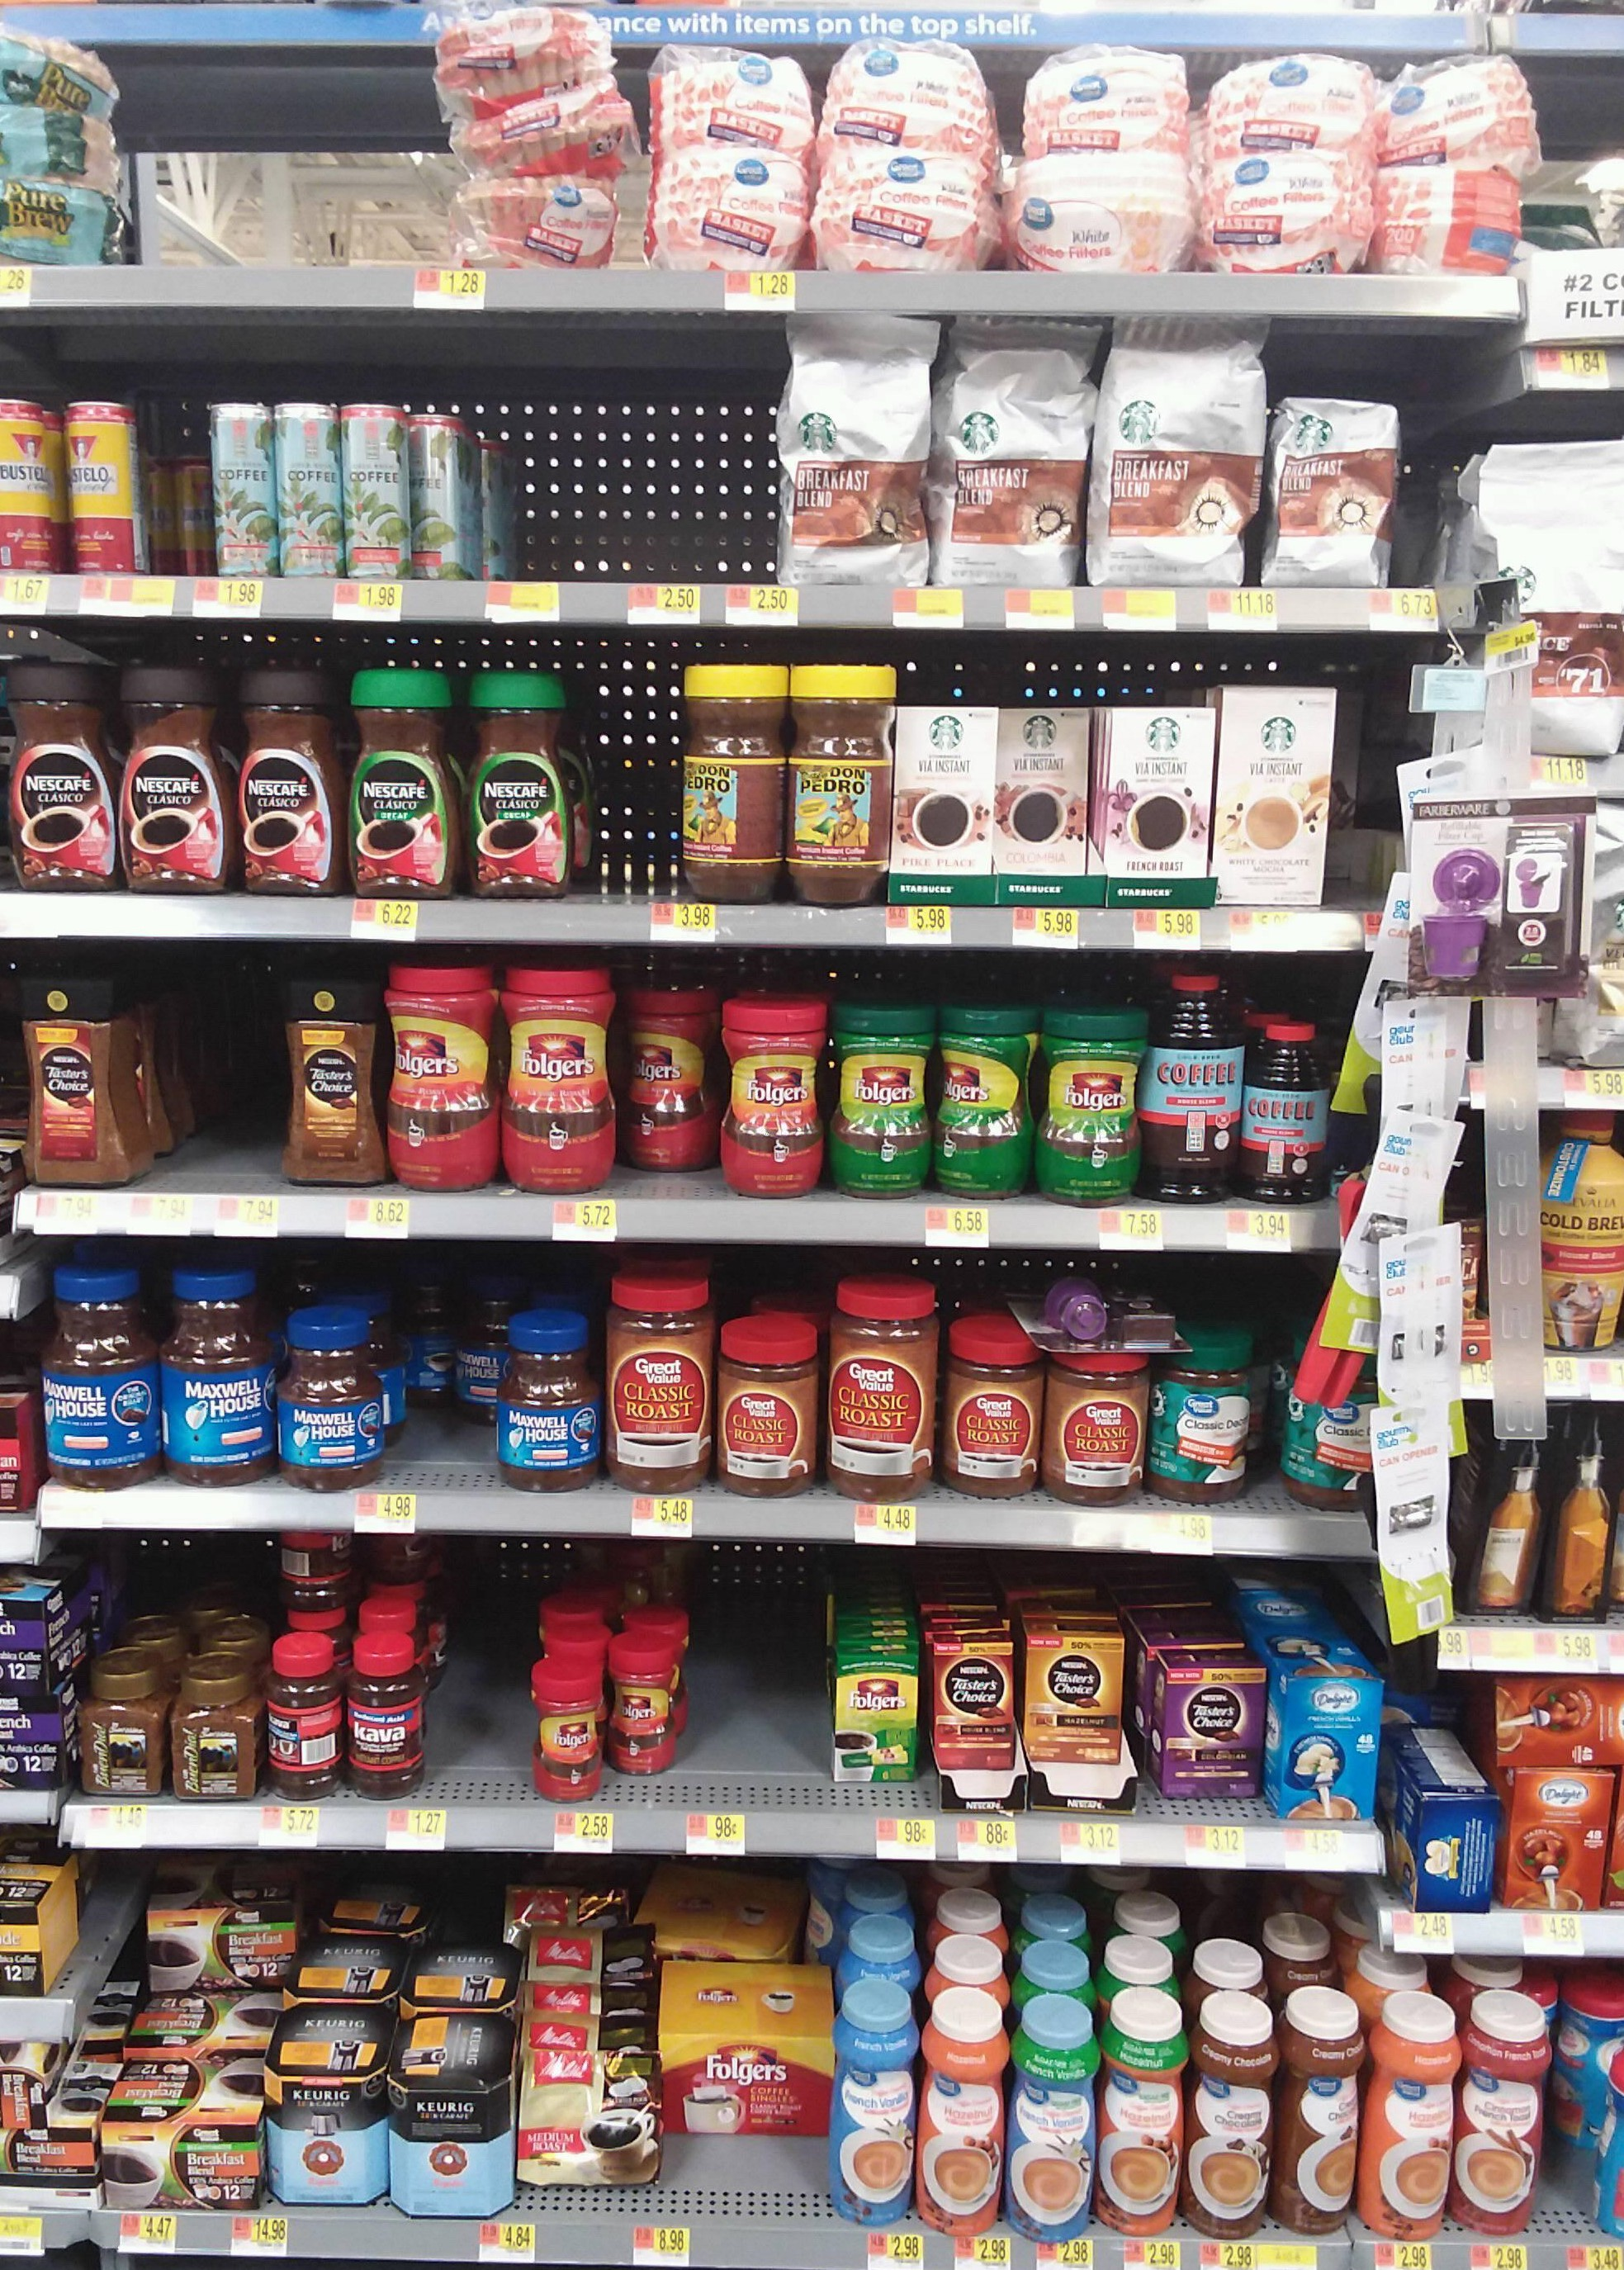empty: (517, 394, 765, 576), (710, 1565, 826, 1803), (185, 963, 285, 1179), (448, 1558, 524, 1797)
misalignment: (603, 668, 782, 908), (1139, 1604, 1274, 1825), (1002, 1269, 1195, 1367)
